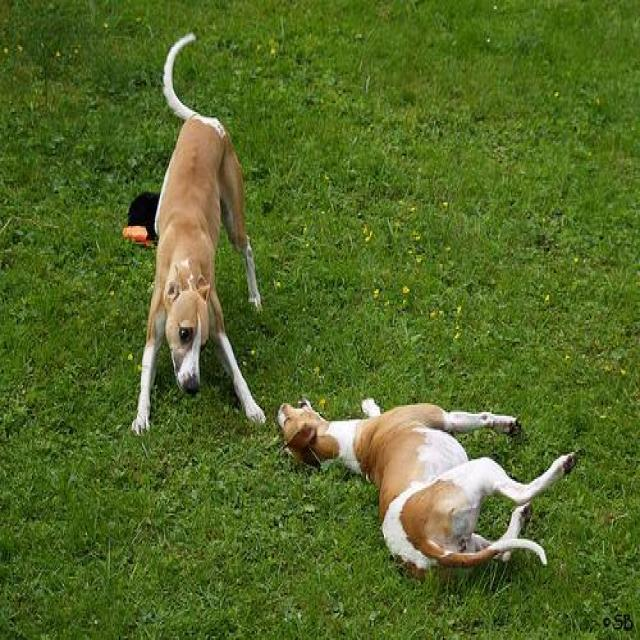adult_dog: (129, 30, 267, 436), (276, 395, 578, 580)
